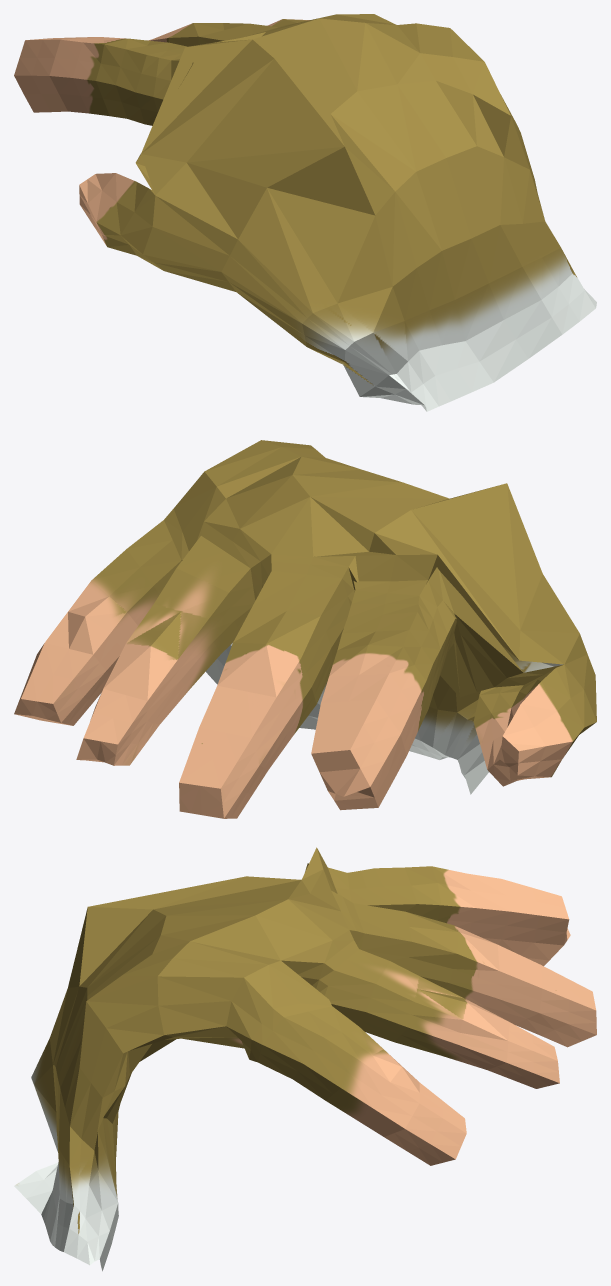
Rendered from flexion0048.obj.
3 views of the same model, one above another, from view 1: azimuth 30°, elevation 25°; view 2: azimuth 150°, elevation 25°; view 3: azimuth 270°, elevation 25° (orthographic). The views are drawn at different scales.
Parts seen in each view (by area): view 1: Hand; view 2: Hand; view 3: Hand.
Boxes of the visible parts, x1,y1,x2,y2 form: Hand: (14,14,596,411); Hand: (14,440,596,818); Hand: (14,847,596,1271).
Size of the model in its own units: 3.27 by 2.35 by 3.88.
